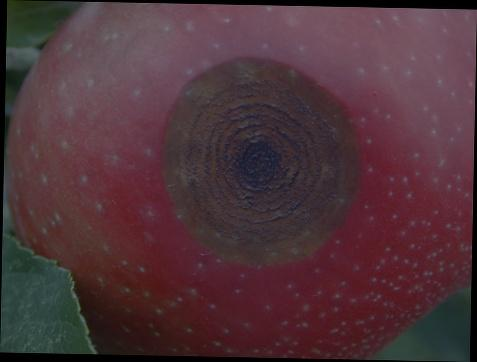rotten apple: (4, 5, 474, 358)
